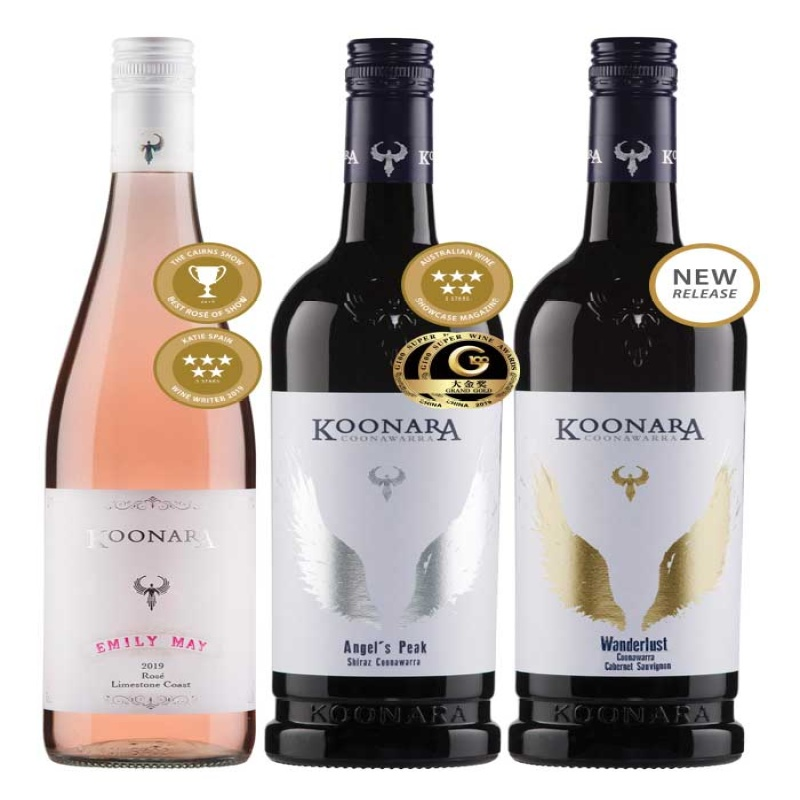wine: (523, 38, 759, 763), (277, 44, 506, 768), (49, 37, 255, 766)
